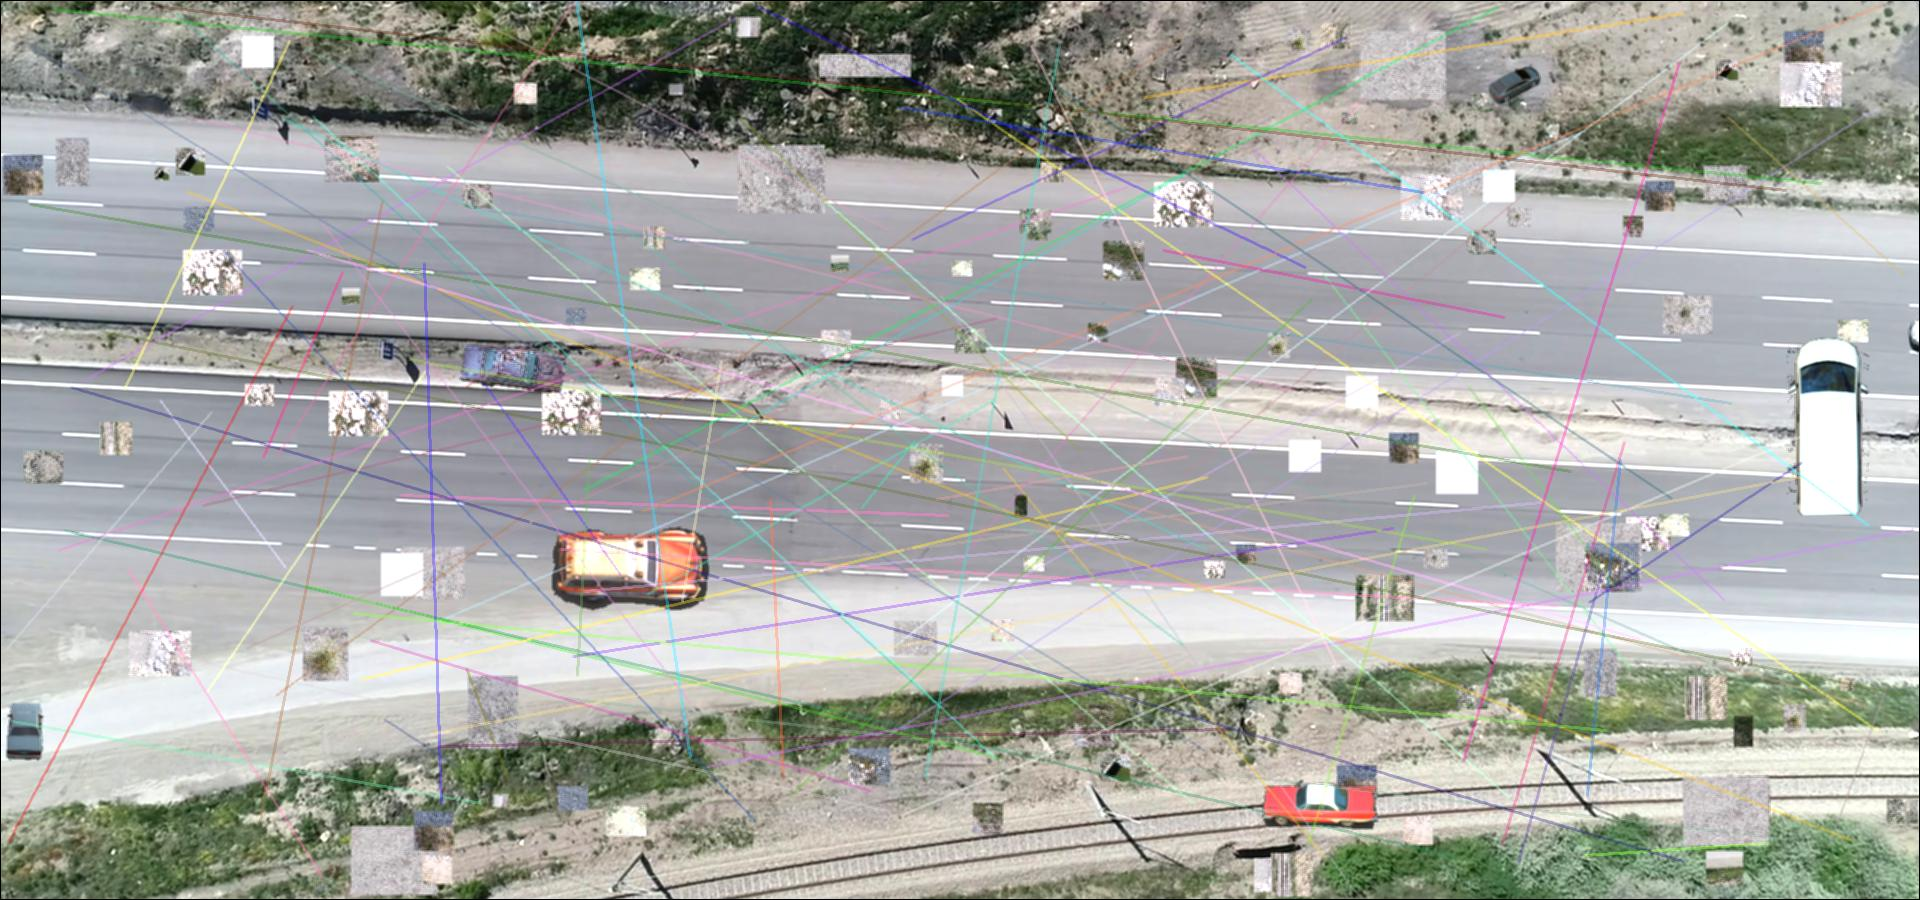arac: (1787, 336, 1869, 518), (551, 527, 718, 610), (1258, 780, 1391, 829), (458, 340, 567, 397), (2, 703, 47, 760), (1487, 65, 1542, 104)
